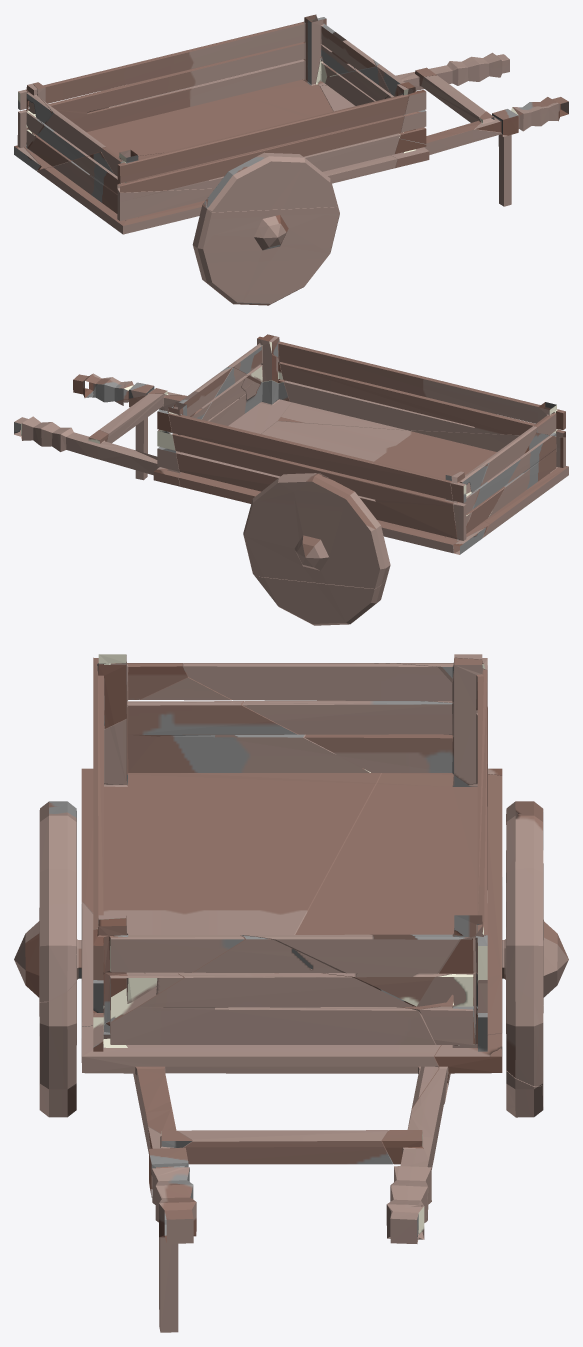
Rendered from cart smashed.fbx.
3 views of the same model, one above another, from view 1: azimuth 30°, elevation 25°; view 2: azimuth 150°, elevation 25°; view 3: azimuth 270°, elevation 25° (orthographic). The views are drawn at different scales.
Visible parts, largest first — view 1: cart_001_cell.004, cart_001_cell.002, cart_001_cell, cart_001_cell.006, cart_001_cell.008, cart_001_cell.005, cart_001_cell.015, cart_001_cell.007, cart_001_cell.009, cart_001_cell.003; view 2: cart_001_cell.004, cart_001_cell, cart_001_cell.012, cart_001_cell.002, cart_001_cell.006, cart_001_cell.005, cart_001_cell.010, cart_001_cell.015, cart_001_cell.009, cart_001_cell.007, cart_001_cell.003, cart_001_cell.001; view 3: cart_001_cell.004, cart_001_cell.002, cart_001_cell.006, cart_001_cell.005, cart_001_cell.012, cart_001_cell.007, cart_001_cell.008, cart_001_cell, cart_001_cell.015, cart_001_cell.014, cart_001_cell.003, cart_001_cell.010 (+1 smaller).
Part boxes in pixels (bbox=[...]): cart_001_cell.004: bbox=[24, 14, 375, 170]; cart_001_cell.002: bbox=[37, 153, 339, 305]; cart_001_cell: bbox=[101, 84, 408, 192]; cart_001_cell.006: bbox=[320, 67, 511, 206]; cart_001_cell.008: bbox=[206, 152, 336, 212]; cart_001_cell.005: bbox=[302, 17, 509, 90]; cart_001_cell.015: bbox=[475, 97, 568, 135]; cart_001_cell.007: bbox=[377, 64, 426, 143]; cart_001_cell.009: bbox=[17, 83, 52, 147]; cart_001_cell.003: bbox=[323, 155, 397, 183]; cart_001_cell.004: bbox=[168, 367, 537, 553]; cart_001_cell: bbox=[269, 336, 565, 437]; cart_001_cell.012: bbox=[243, 473, 390, 588]; cart_001_cell.002: bbox=[261, 421, 568, 538]; cart_001_cell.006: bbox=[99, 375, 291, 480]; cart_001_cell.005: bbox=[14, 409, 180, 486]; cart_001_cell.010: bbox=[255, 576, 387, 625]; cart_001_cell.015: bbox=[73, 373, 181, 402]; cart_001_cell.009: bbox=[451, 463, 488, 540]; cart_001_cell.007: bbox=[227, 334, 284, 383]; cart_001_cell.003: bbox=[278, 402, 411, 430]; cart_001_cell.001: bbox=[453, 527, 486, 554]; cart_001_cell.004: bbox=[183, 658, 502, 1034]; cart_001_cell.002: bbox=[14, 701, 381, 1117]; cart_001_cell.006: bbox=[81, 973, 450, 1332]; cart_001_cell.005: bbox=[382, 929, 502, 1243]; cart_001_cell.012: bbox=[502, 801, 568, 1086]; cart_001_cell.007: bbox=[93, 918, 244, 1046]; cart_001_cell.008: bbox=[39, 801, 76, 1001]; cart_001_cell: bbox=[93, 654, 187, 929]; cart_001_cell.015: bbox=[148, 1127, 196, 1243]; cart_001_cell.014: bbox=[193, 935, 342, 972]; cart_001_cell.003: bbox=[81, 902, 143, 1037]; cart_001_cell.010: bbox=[506, 1006, 543, 1117].
Bounding box in the file's own units: 335 × 116 × 178.
1 material, 1 textured.
